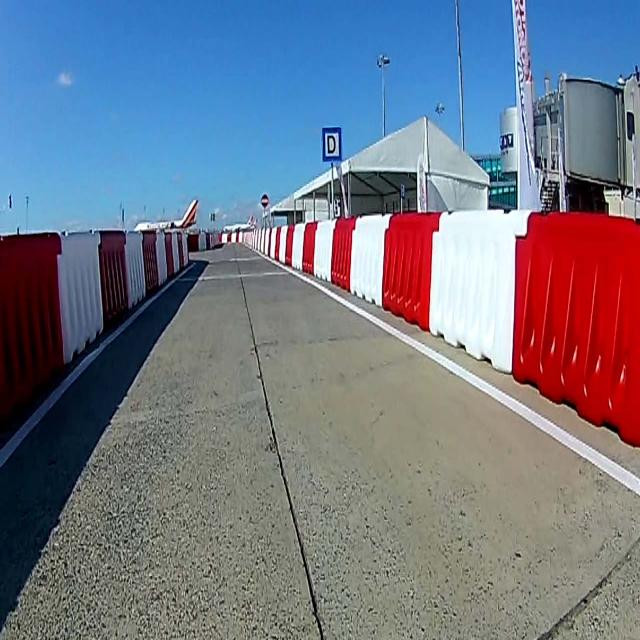durak: (320, 125, 342, 163)
girisyok: (260, 192, 268, 208)
